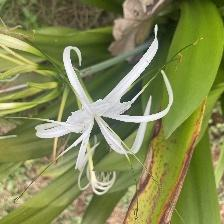spider lily: (34, 23, 176, 199)
